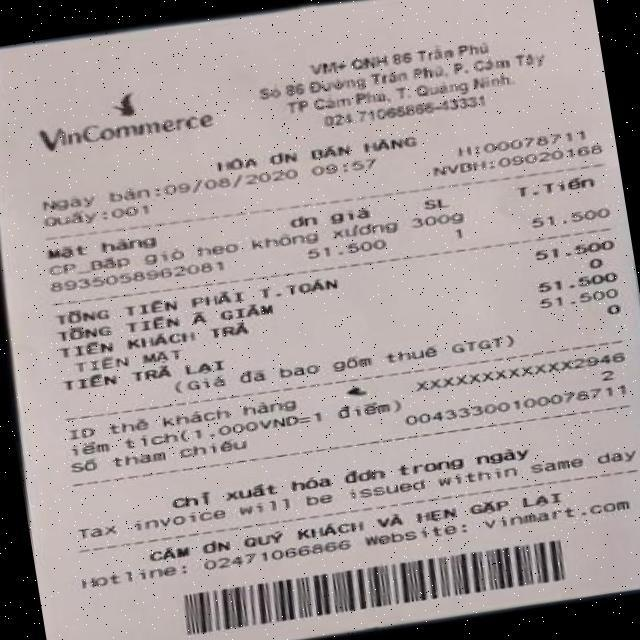Date: (158, 160, 304, 204)
Store_Name: (13, 62, 227, 168)
amount_number: (520, 231, 626, 268)
label_total: (53, 278, 348, 330)
